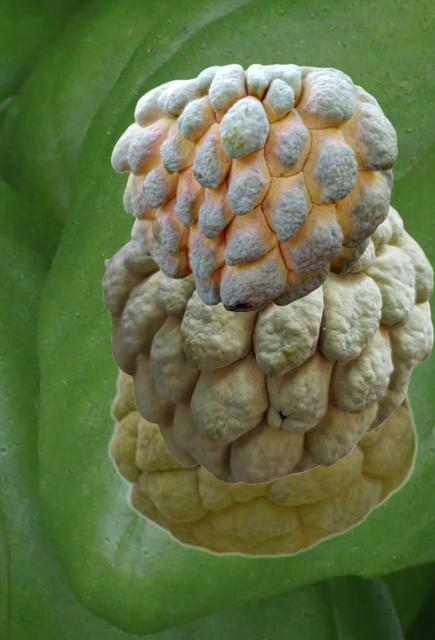atis: (101, 203, 433, 483), (111, 63, 396, 311), (106, 363, 417, 557)
